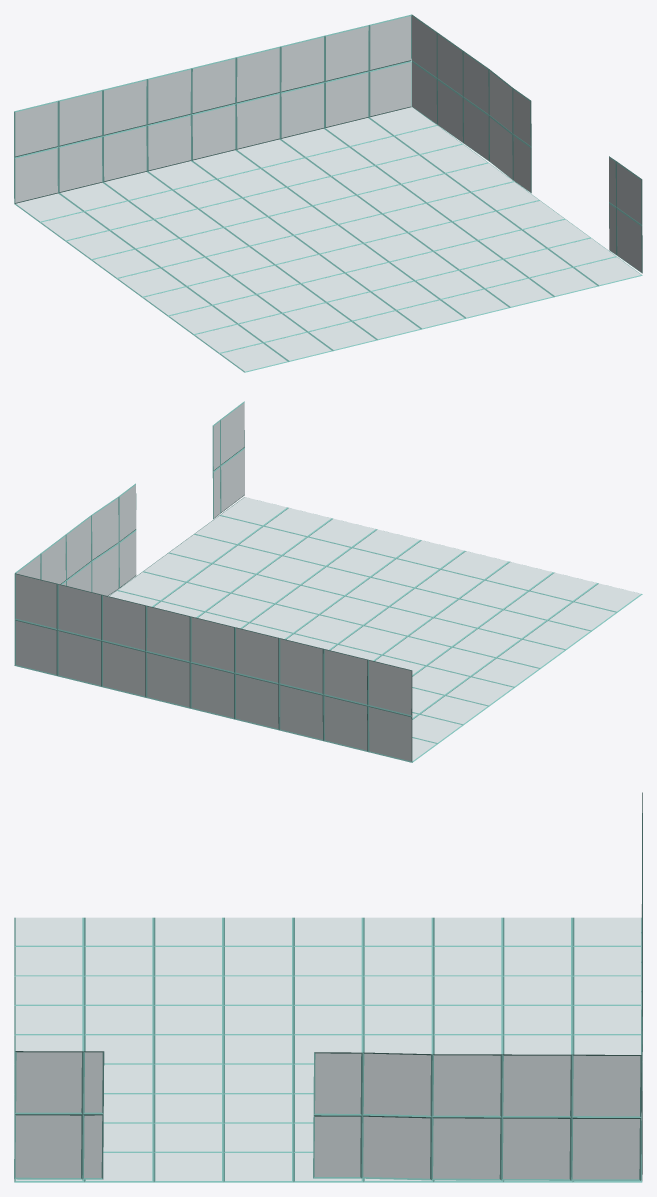
The model's file is Laundry_floortile.fbx.
3 views of the same model, one above another, from view 1: azimuth 30°, elevation 25°; view 2: azimuth 150°, elevation 25°; view 3: azimuth 270°, elevation 25° (orthographic). The views are drawn at different scales.
Parts seen in each view (by area): view 1: Laundry_floortile; view 2: Laundry_floortile; view 3: Laundry_floortile.
Part boxes in pixels (x1,y1,x2,y2): Laundry_floortile: (14, 14, 642, 372); Laundry_floortile: (14, 401, 642, 762); Laundry_floortile: (14, 792, 642, 1182).
Bounding box in the file's own units: 489 × 491 × 113.
